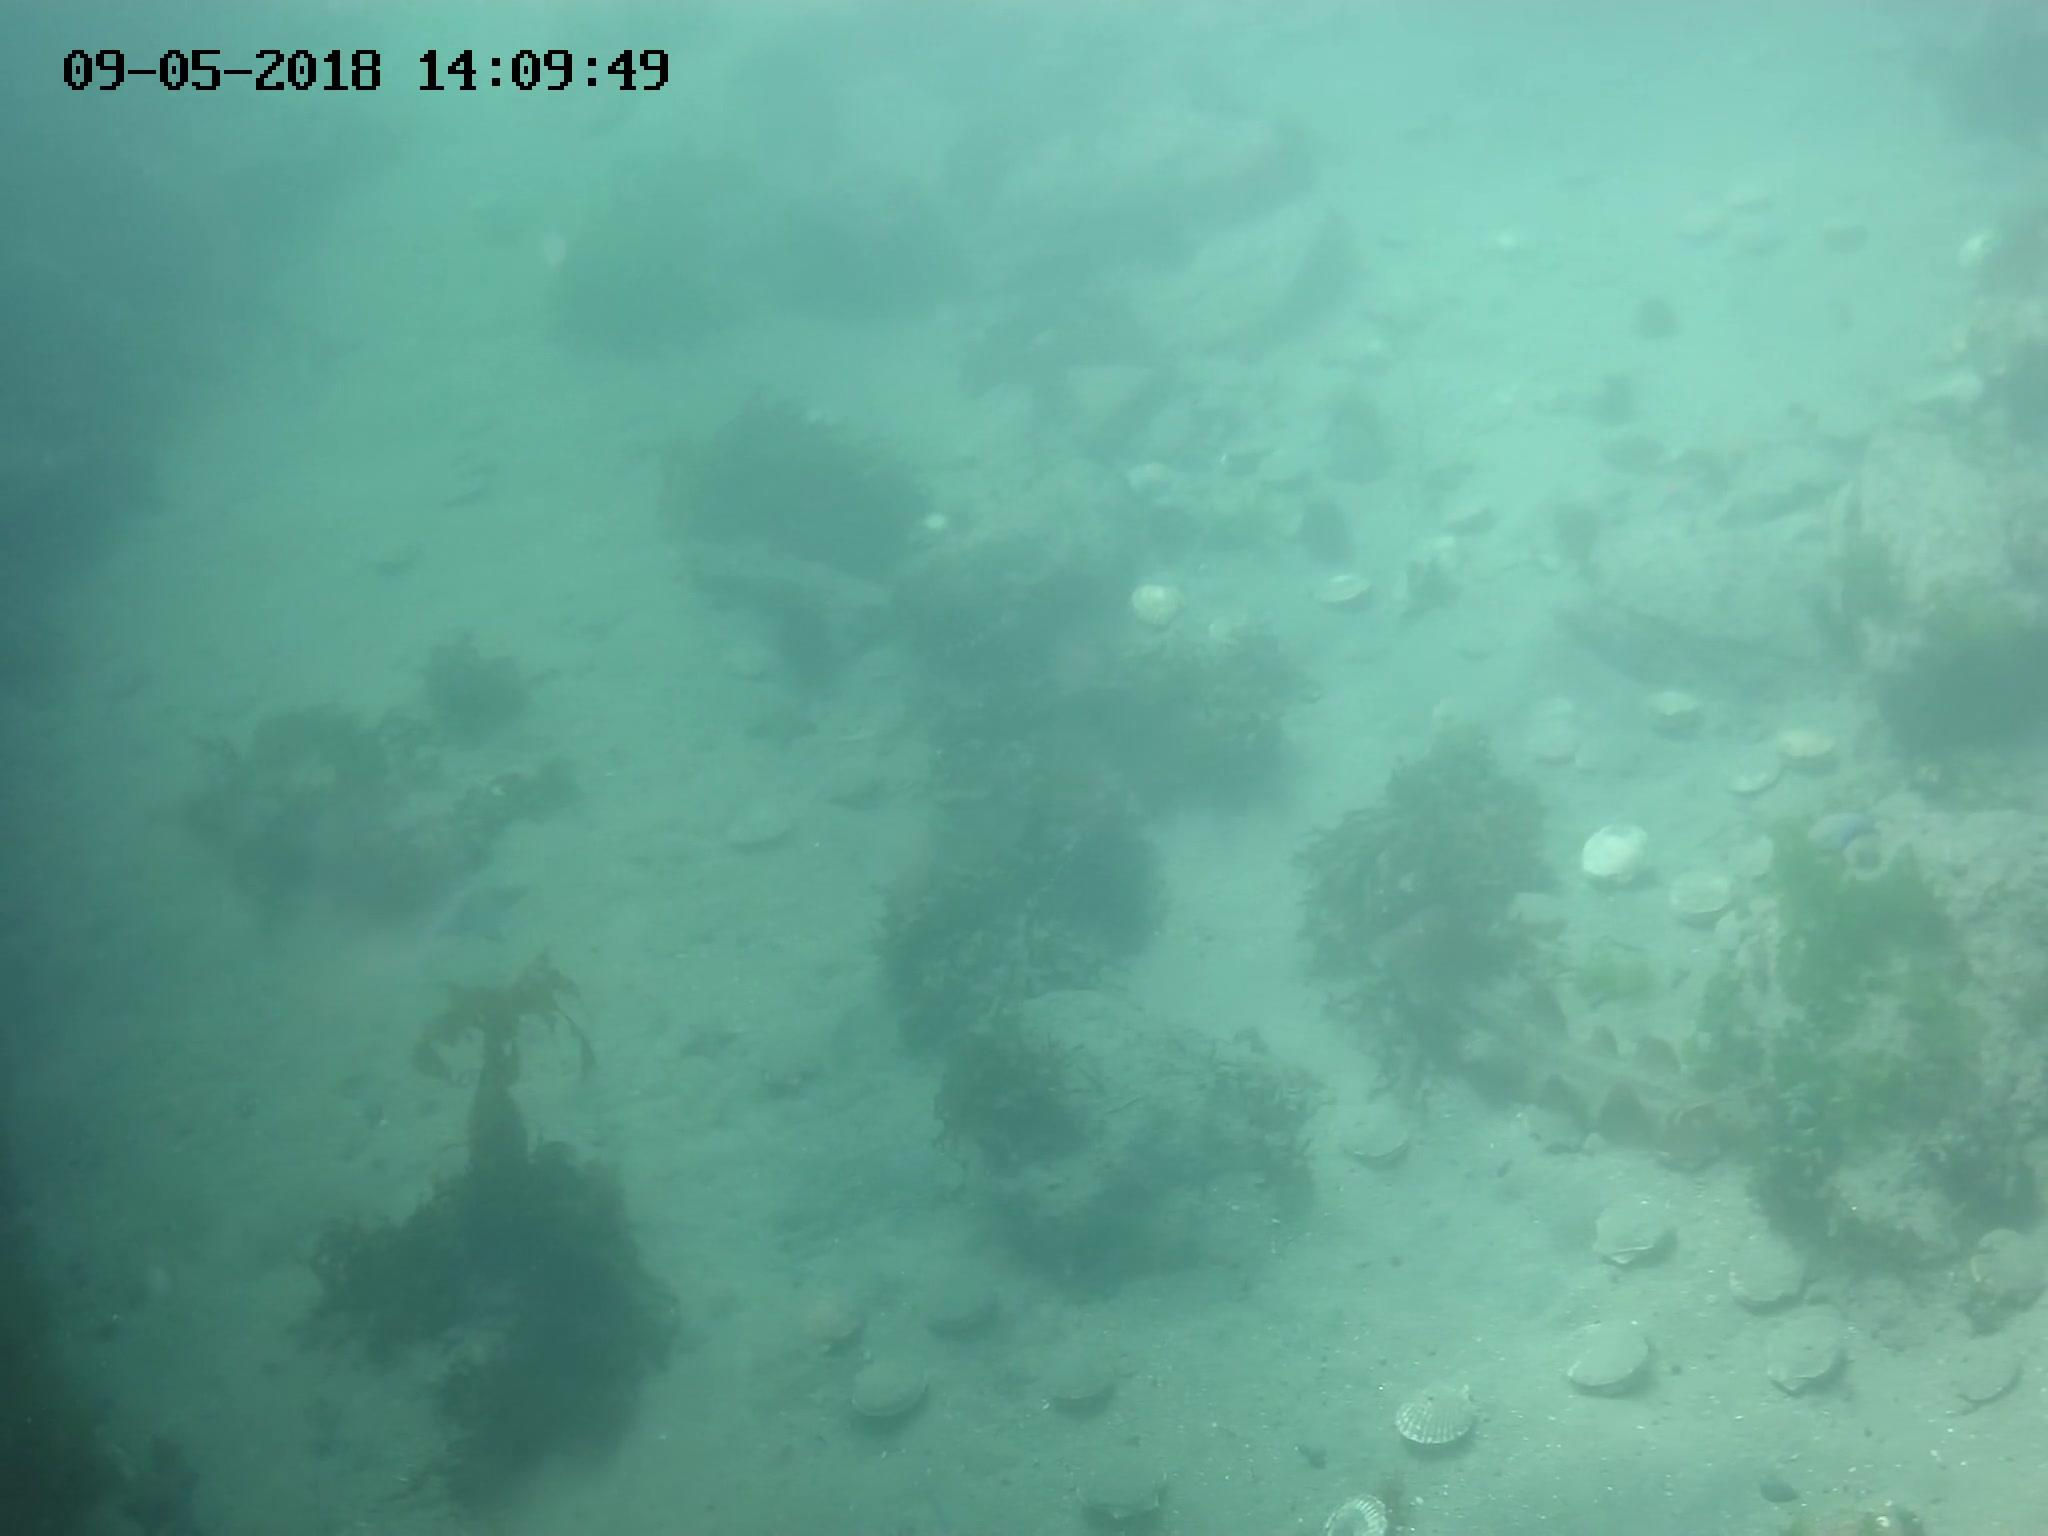scallop: (1074, 1450, 1176, 1531), (1963, 1221, 2048, 1312), (1393, 1379, 1485, 1462), (1563, 1321, 1655, 1399), (1721, 1234, 1808, 1313), (1766, 1323, 1853, 1400), (1588, 1191, 1672, 1270), (848, 1359, 934, 1426), (914, 1276, 1006, 1339), (1579, 820, 1658, 891), (1951, 1336, 2022, 1409), (1664, 870, 1745, 929), (1522, 1099, 1598, 1157), (1321, 1483, 1400, 1536), (1638, 684, 1713, 736), (1047, 1360, 1118, 1413), (1769, 724, 1842, 771), (1347, 1121, 1413, 1168), (722, 807, 793, 850), (1313, 571, 1379, 616), (1127, 581, 1188, 629), (1522, 720, 1590, 763), (1722, 757, 1793, 797)
starfish: (432, 870, 537, 954), (1796, 803, 1884, 865), (671, 1007, 745, 1071), (740, 699, 822, 755)
